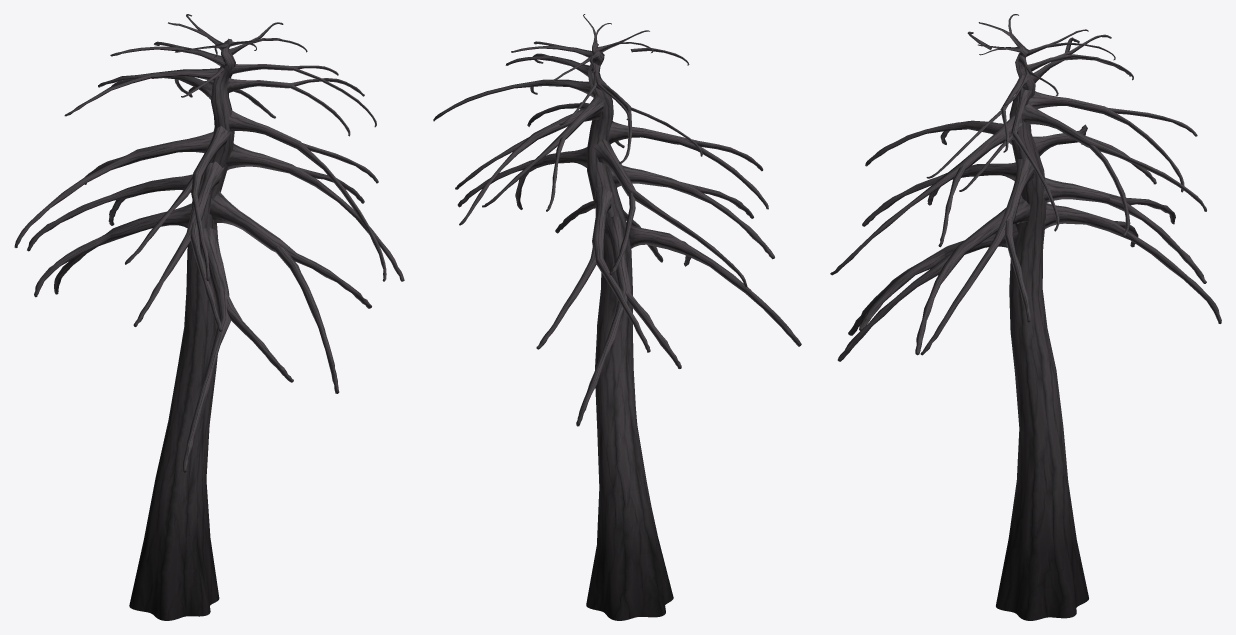
The model's file is DeadTree_4.gltf.
3 views of the same model, side by side, from view 1: azimuth 30°, elevation 25°; view 2: azimuth 150°, elevation 25°; view 3: azimuth 270°, elevation 25° (orthographic). The views are drawn at different scales.
Visible parts, largest first — view 1: DeadTree_4; view 2: DeadTree_4; view 3: DeadTree_4.
Boxes of the visible parts, box(x1,y1,x2,y2) form: DeadTree_4: box(14, 14, 404, 620); DeadTree_4: box(433, 14, 801, 620); DeadTree_4: box(830, 14, 1221, 620).
Size of the model in its own units: 7.96 by 12.77 by 7.73.
Materials: 1 (1 with a texture image).
